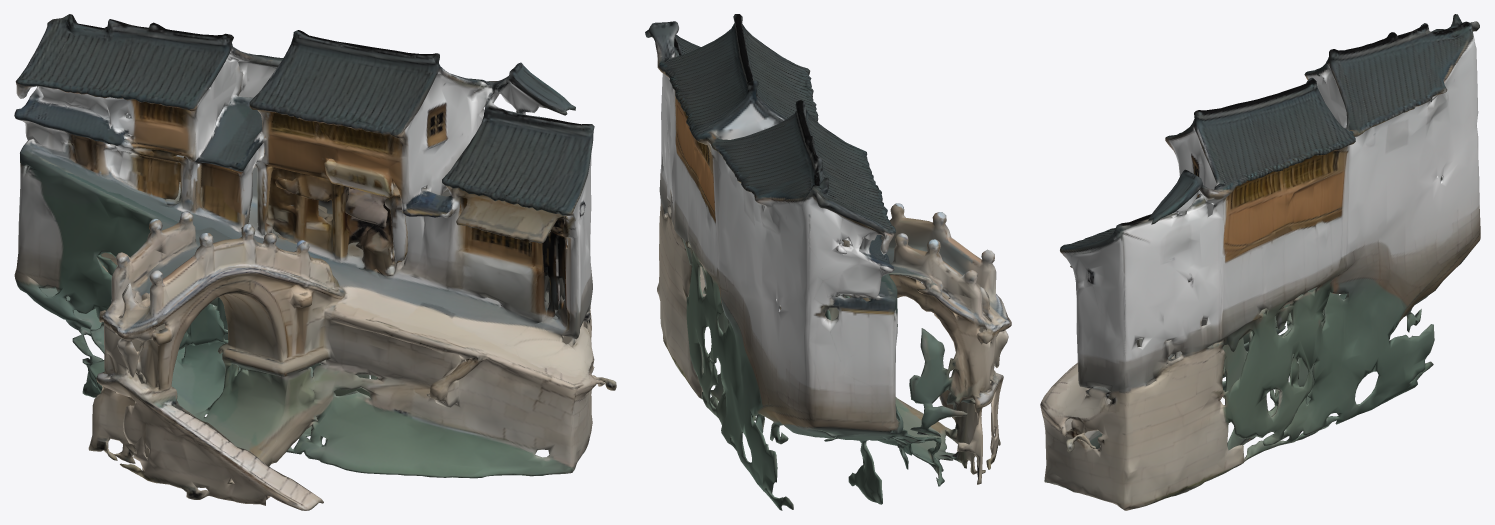
3 views of the same model, side by side, from view 1: azimuth 30°, elevation 25°; view 2: azimuth 150°, elevation 25°; view 3: azimuth 270°, elevation 25° (orthographic). The views are drawn at different scales.
Visible parts, largest first — view 1: material.001; view 2: material.001; view 3: material.001.
Boxes of the visible parts, x1,y1,x2,y2 form: material.001: [14, 14, 616, 510]; material.001: [645, 14, 1011, 510]; material.001: [1040, 14, 1480, 510].
Size of the model in its own units: 0.8126 by 0.7107 by 0.8011.
1 material, 1 textured.
